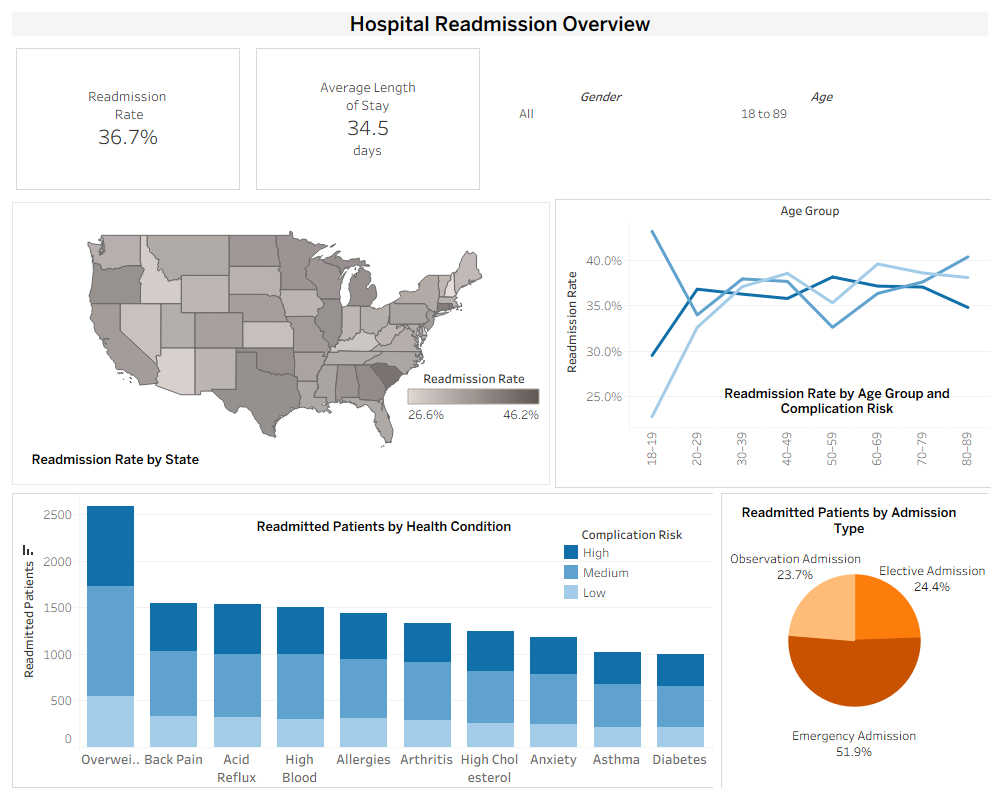

This screenshot's page, from the dashboard's own definition file:
{"tool":"tableau","page":{"name":"Dashboard 1","canvas":[1000,800],"ordinal":0},"visuals":[{"type":"text","box":[8,8,984,32]},{"type":"worksheet","title":"ReAdmission Rate KPI","mark":"Automatic","box":[8,40,240,158]},{"type":"worksheet","title":"Average Length of Stay KPI","mark":"Automatic","box":[248,40,240,158]},{"type":"blank","box":[488,40,30,32]},{"type":"filter","title":"Readmitted Patients by Health Condition","param":"[federated.0z8bt111p85uru1gc4z6r1fh49e9].[none:Gender:nk]","box":[517,87,168,52]},{"type":"filter","title":"Readmission Rate by Age Group and Complication Risk","param":"[federated.0z8bt111p85uru1gc4z6r1fh49e9].[none:Age:qk]","box":[738,87,168,54]},{"type":"worksheet","title":"Readmission Rate by State","mark":"Automatic","box":[8,198,546,291.1]},{"type":"worksheet","title":"Readmission Rate by Age Group and Complication Risk","mark":"Line","rows":["Calculation_1453332487073792"],"cols":["Calculation_1236179333410818"],"box":[554,198,438,291.1]},{"type":"legend","title":"Readmission Rate by State","param":"[federated.0z8bt111p85uru1gc4z6r1fh49e9].[usr:Calculation_1453332487073792:qk]","box":[404,366,140,76]},{"type":"text","box":[683,384,308,35]},{"type":"text","box":[19,442,252,36]},{"type":"worksheet","title":"Readmitted Patients by Health Condition","mark":"Bar","rows":["Calculation_1236179290034176"],"cols":["Pivot Field Names"],"box":[8,489.1,709,302.9]},{"type":"worksheet","title":"Share of Readmitted Patients by Admission Type","mark":"Pie","box":[717,489.1,275,302.9]},{"type":"text","box":[723,500,252,42]},{"type":"text","box":[254,507,268,40]},{"type":"legend","title":"Readmitted Patients by Health Condition","param":"[federated.0z8bt111p85uru1gc4z6r1fh49e9].[none:Complication_risk:nk]","box":[561,524,140,78]}]}

Visuals, with their boxes in screenshot pixels (x1, y1, x2, y2), scaled from the page's 1000x800 canvas onto the 1000x800 screenshot:
text: {"left": 8, "top": 8, "right": 992, "bottom": 40}
"ReAdmission Rate KPI" worksheet: {"left": 8, "top": 40, "right": 248, "bottom": 198}
"Average Length of Stay KPI" worksheet: {"left": 248, "top": 40, "right": 488, "bottom": 198}
blank: {"left": 488, "top": 40, "right": 518, "bottom": 72}
"Readmitted Patients by Health Condition" filter: {"left": 517, "top": 87, "right": 685, "bottom": 139}
"Readmission Rate by Age Group and Complication Risk" filter: {"left": 738, "top": 87, "right": 906, "bottom": 141}
"Readmission Rate by State" worksheet: {"left": 8, "top": 198, "right": 554, "bottom": 489}
"Readmission Rate by Age Group and Complication Risk" worksheet (Line marks): {"left": 554, "top": 198, "right": 992, "bottom": 489}
"Readmission Rate by State" legend: {"left": 404, "top": 366, "right": 544, "bottom": 442}
text: {"left": 683, "top": 384, "right": 991, "bottom": 419}
text: {"left": 19, "top": 442, "right": 271, "bottom": 478}
"Readmitted Patients by Health Condition" worksheet (Bar marks): {"left": 8, "top": 489, "right": 717, "bottom": 792}
"Share of Readmitted Patients by Admission Type" worksheet (Pie marks): {"left": 717, "top": 489, "right": 992, "bottom": 792}
text: {"left": 723, "top": 500, "right": 975, "bottom": 542}
text: {"left": 254, "top": 507, "right": 522, "bottom": 547}
"Readmitted Patients by Health Condition" legend: {"left": 561, "top": 524, "right": 701, "bottom": 602}
